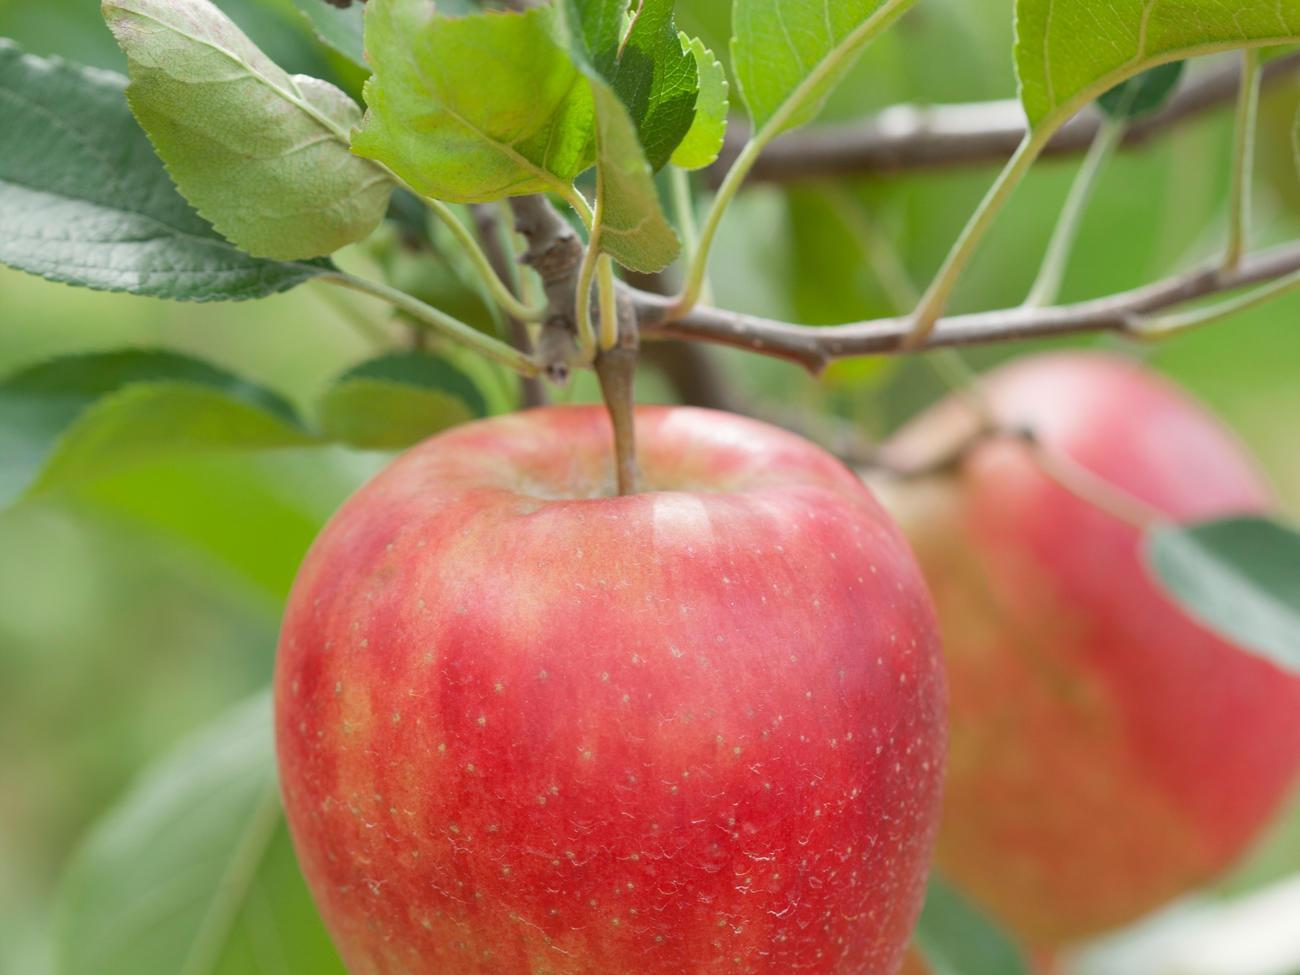apple: (272, 400, 962, 965)
